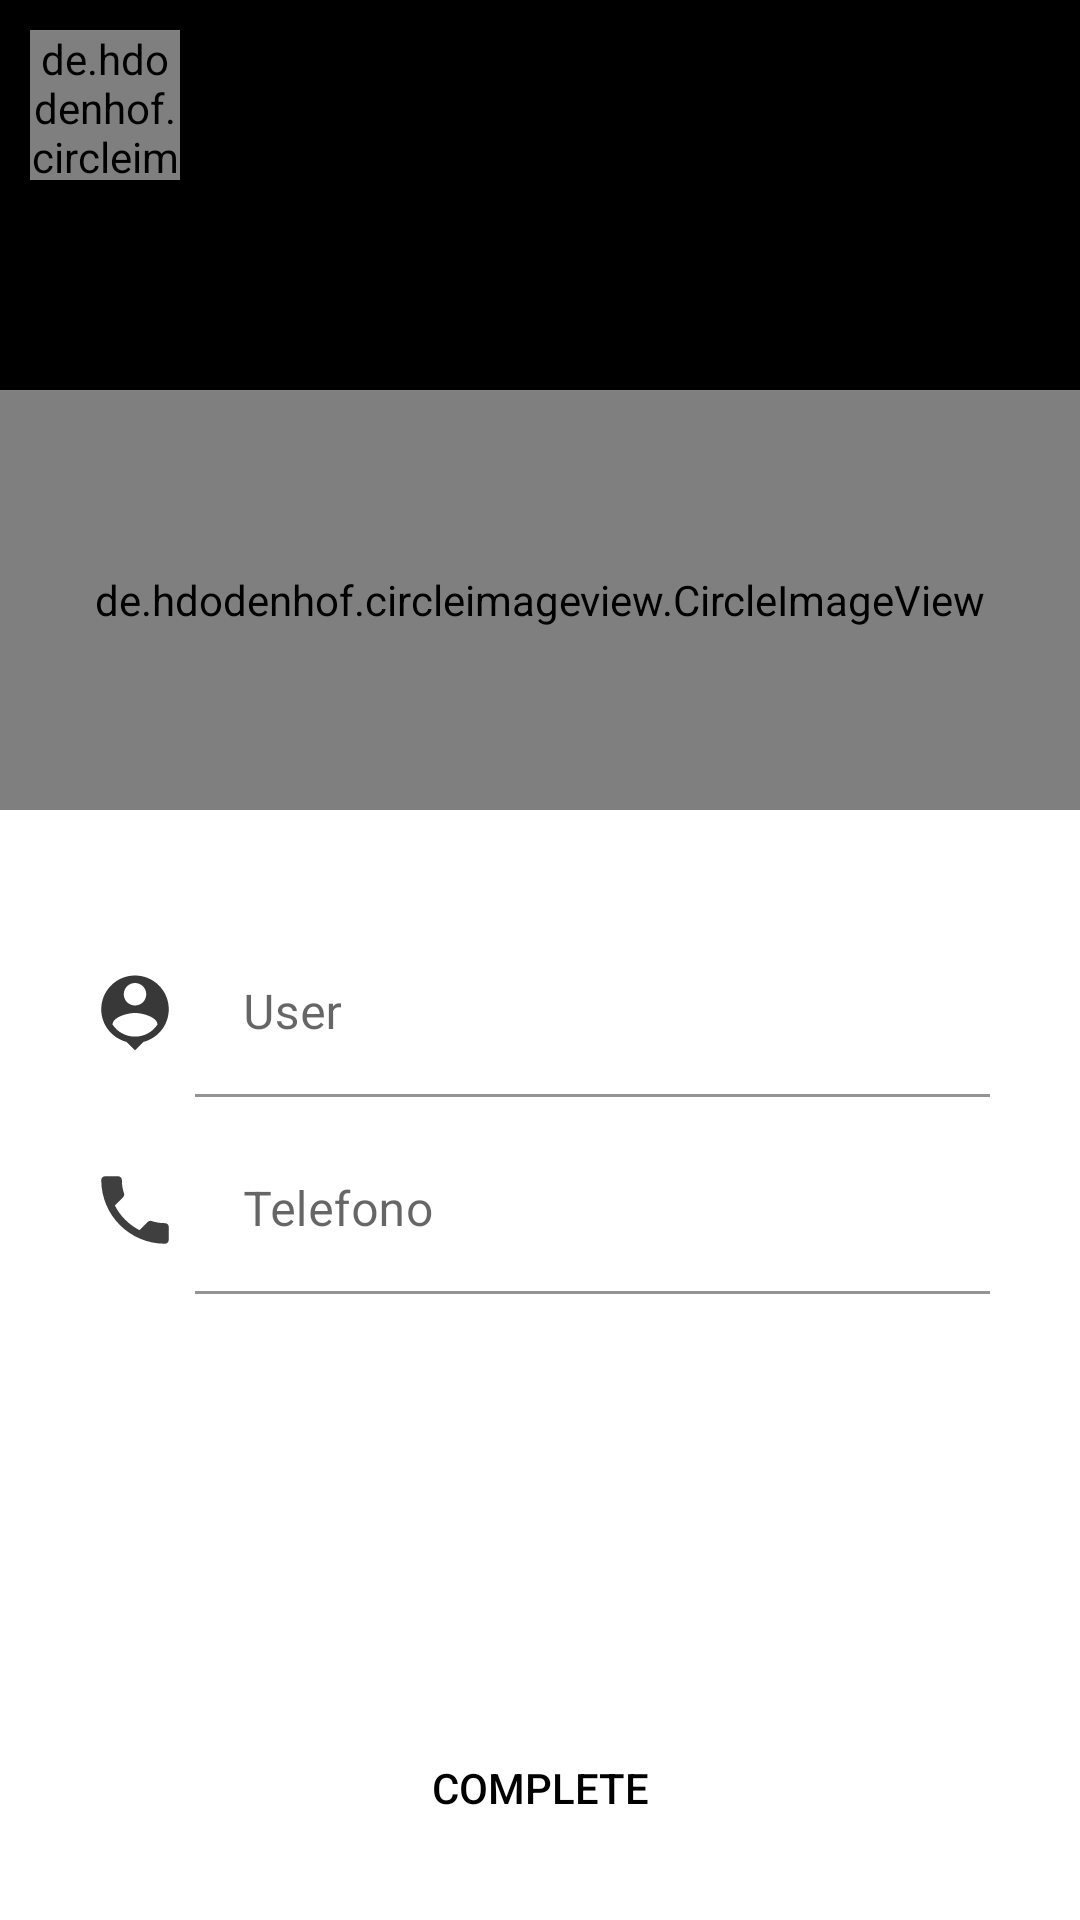

Icons on this 1080*1920 Android screen, each with its box as (x1, y1, x2, y2):
person pin: (101, 975, 169, 1050)
phone: (101, 1176, 169, 1244)
